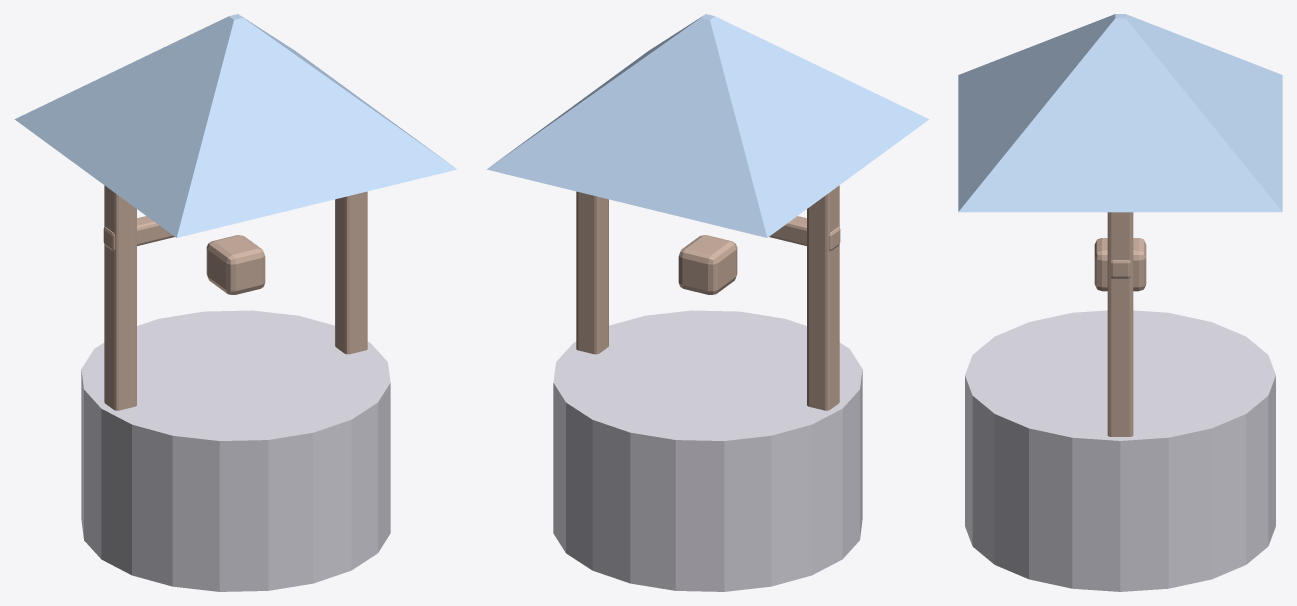
The model's file is studna.glb.
3 renders of one model, left to right at view 1: azimuth 30°, elevation 25°; view 2: azimuth 150°, elevation 25°; view 3: azimuth 270°, elevation 25°, orthographic.
Parts seen in each view (by area): view 1: Cylinder, Cone, Cube, Cube.001, Cube.003, Cube.002; view 2: Cylinder, Cone, Cube, Cube.001, Cube.003, Cube.002; view 3: Cylinder, Cone, Cube.001, Cube.003.
Part boxes in pixels (bbox=[...]): Cylinder: bbox=[81, 310, 390, 591]; Cone: bbox=[14, 14, 457, 237]; Cube: bbox=[104, 185, 136, 410]; Cube.001: bbox=[335, 191, 367, 354]; Cube.003: bbox=[206, 235, 265, 294]; Cube.002: bbox=[103, 216, 174, 250]; Cylinder: bbox=[553, 310, 862, 591]; Cone: bbox=[486, 14, 929, 237]; Cube: bbox=[807, 185, 839, 410]; Cube.001: bbox=[576, 191, 608, 354]; Cube.003: bbox=[678, 235, 737, 294]; Cube.002: bbox=[769, 216, 840, 250]; Cylinder: bbox=[965, 310, 1275, 591]; Cone: bbox=[958, 14, 1282, 212]; Cube.001: bbox=[1107, 212, 1133, 436]; Cube.003: bbox=[1094, 238, 1146, 291].
Size of the model in its own units: 0.8768 by 1.52 by 0.8768.
